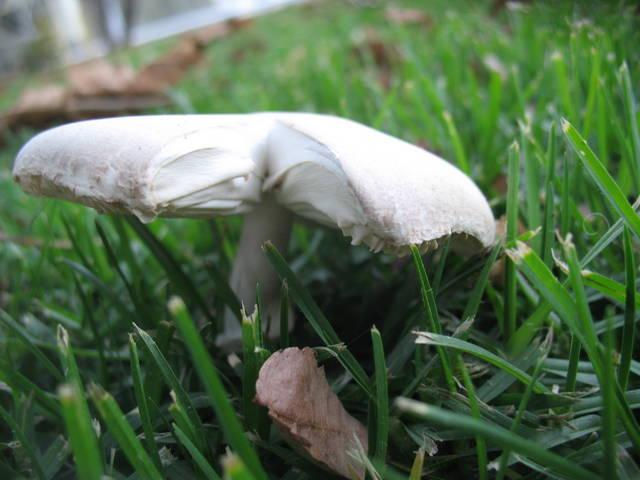Non-edible Mushroom: (11, 109, 497, 354)
